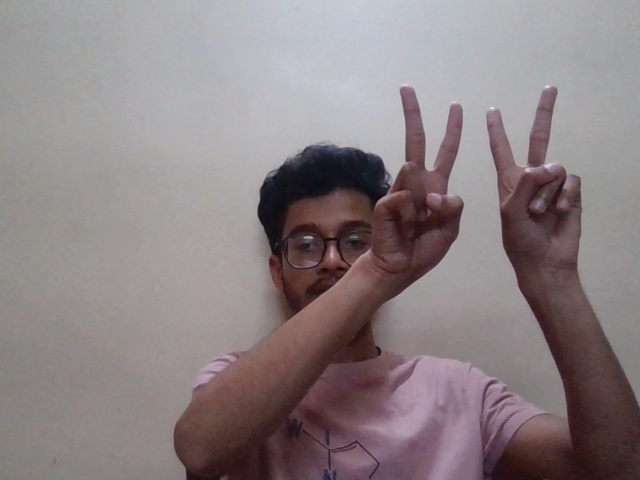take-care: (379, 82, 598, 281)
